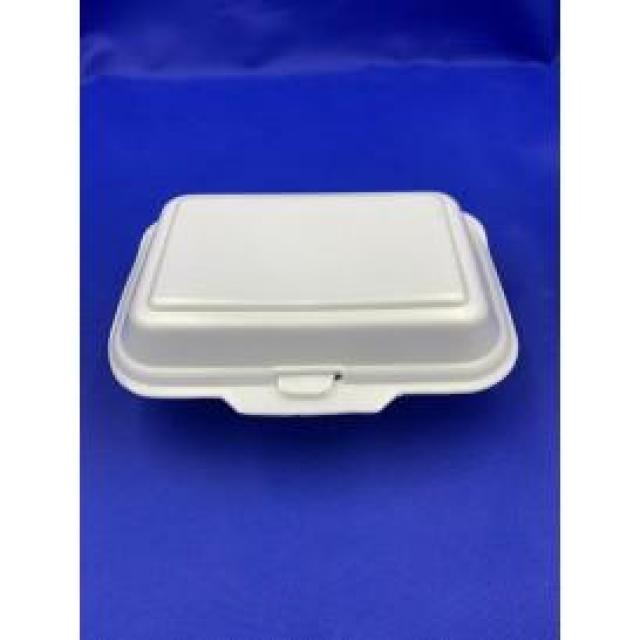styrofoam: (106, 188, 518, 417)
